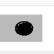correct: (13, 20, 35, 38)
